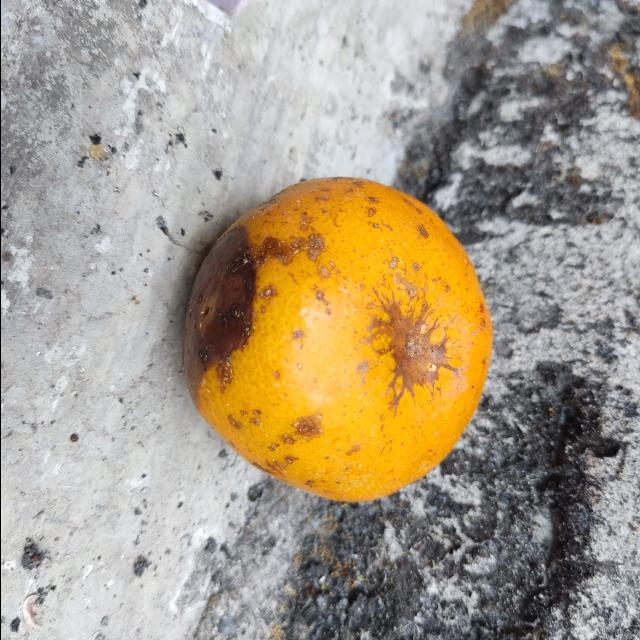orange: (182, 175, 494, 506)
